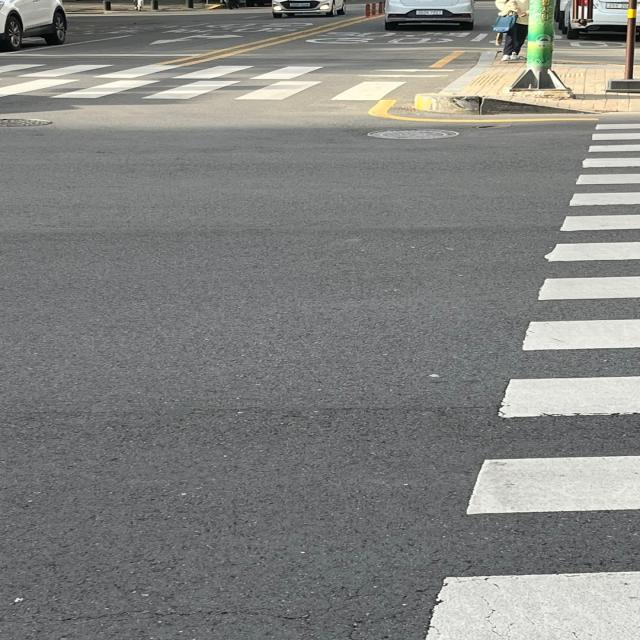Sewer Cover: (349, 121, 471, 154), (1, 110, 76, 135)
